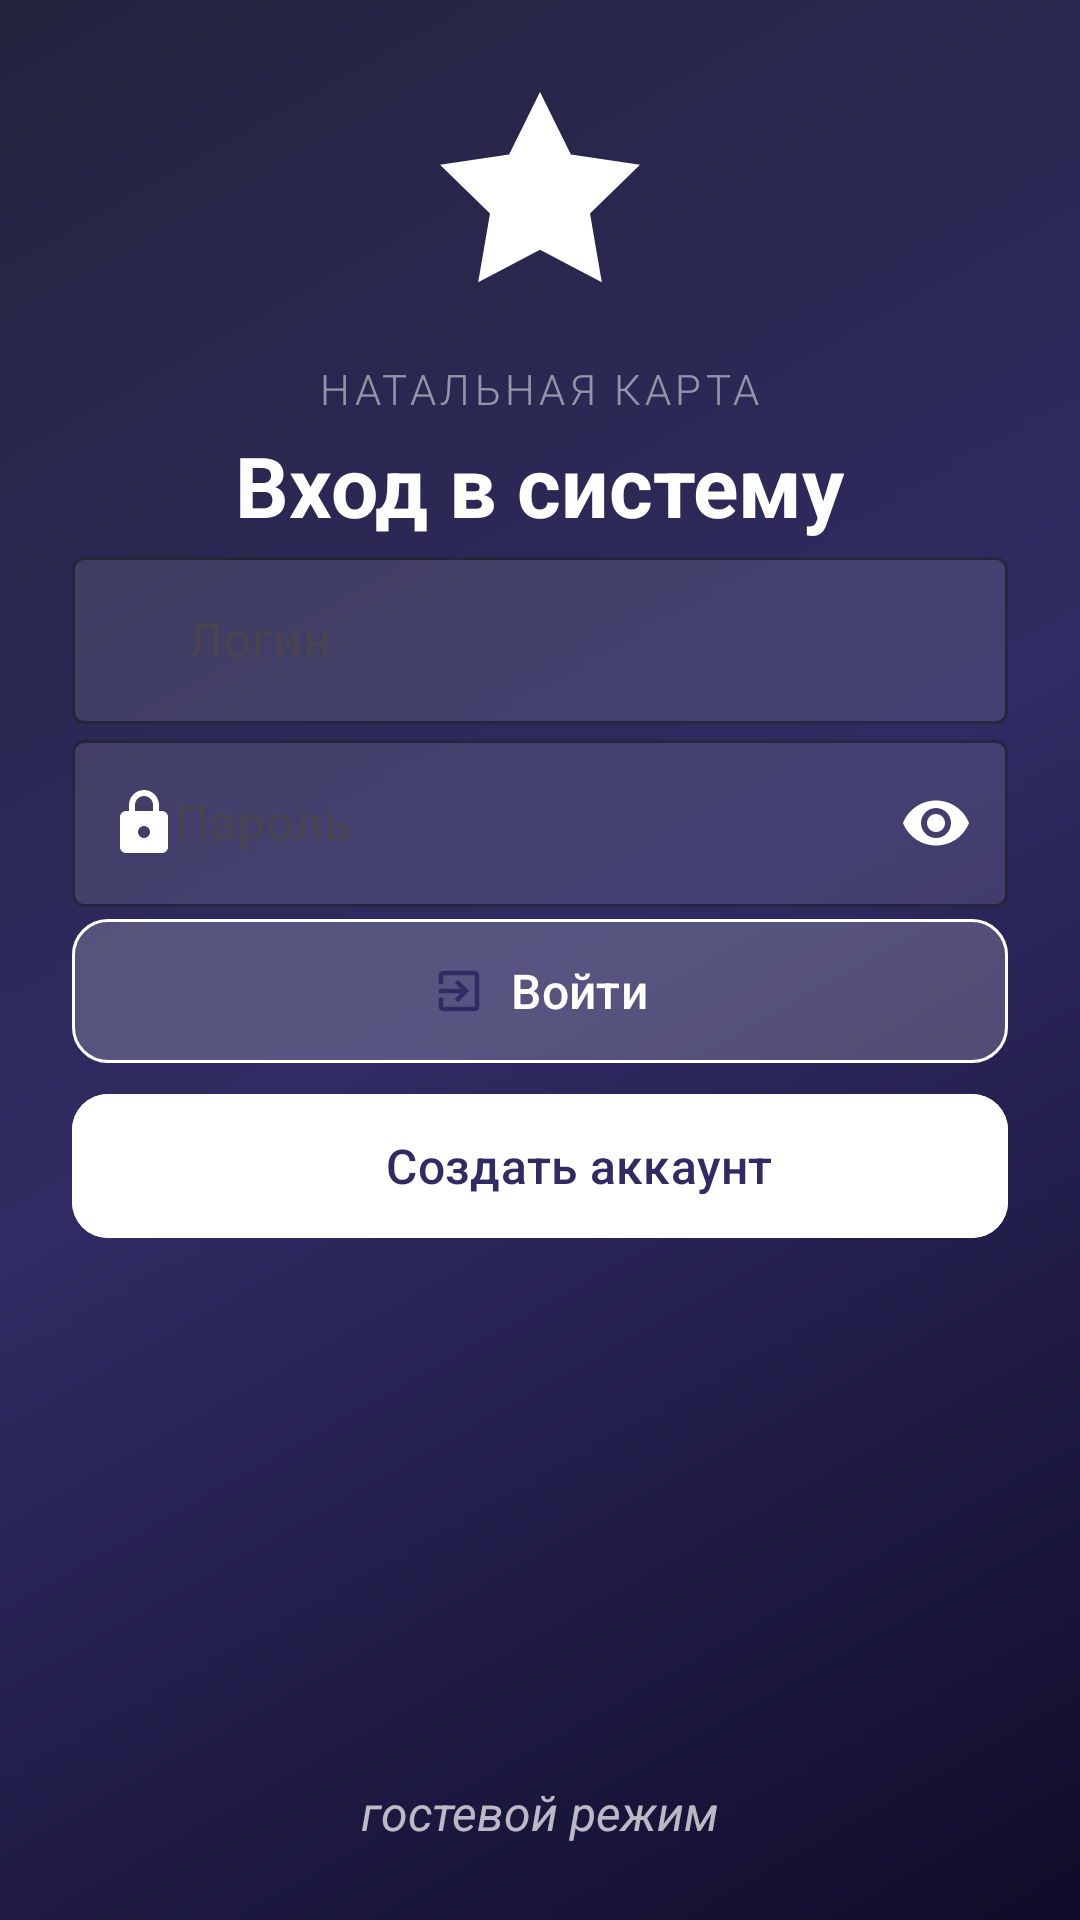

Point at icon controls on the screen. Image size 1080x1920, points as [x,y].
astrology: [540,187]
